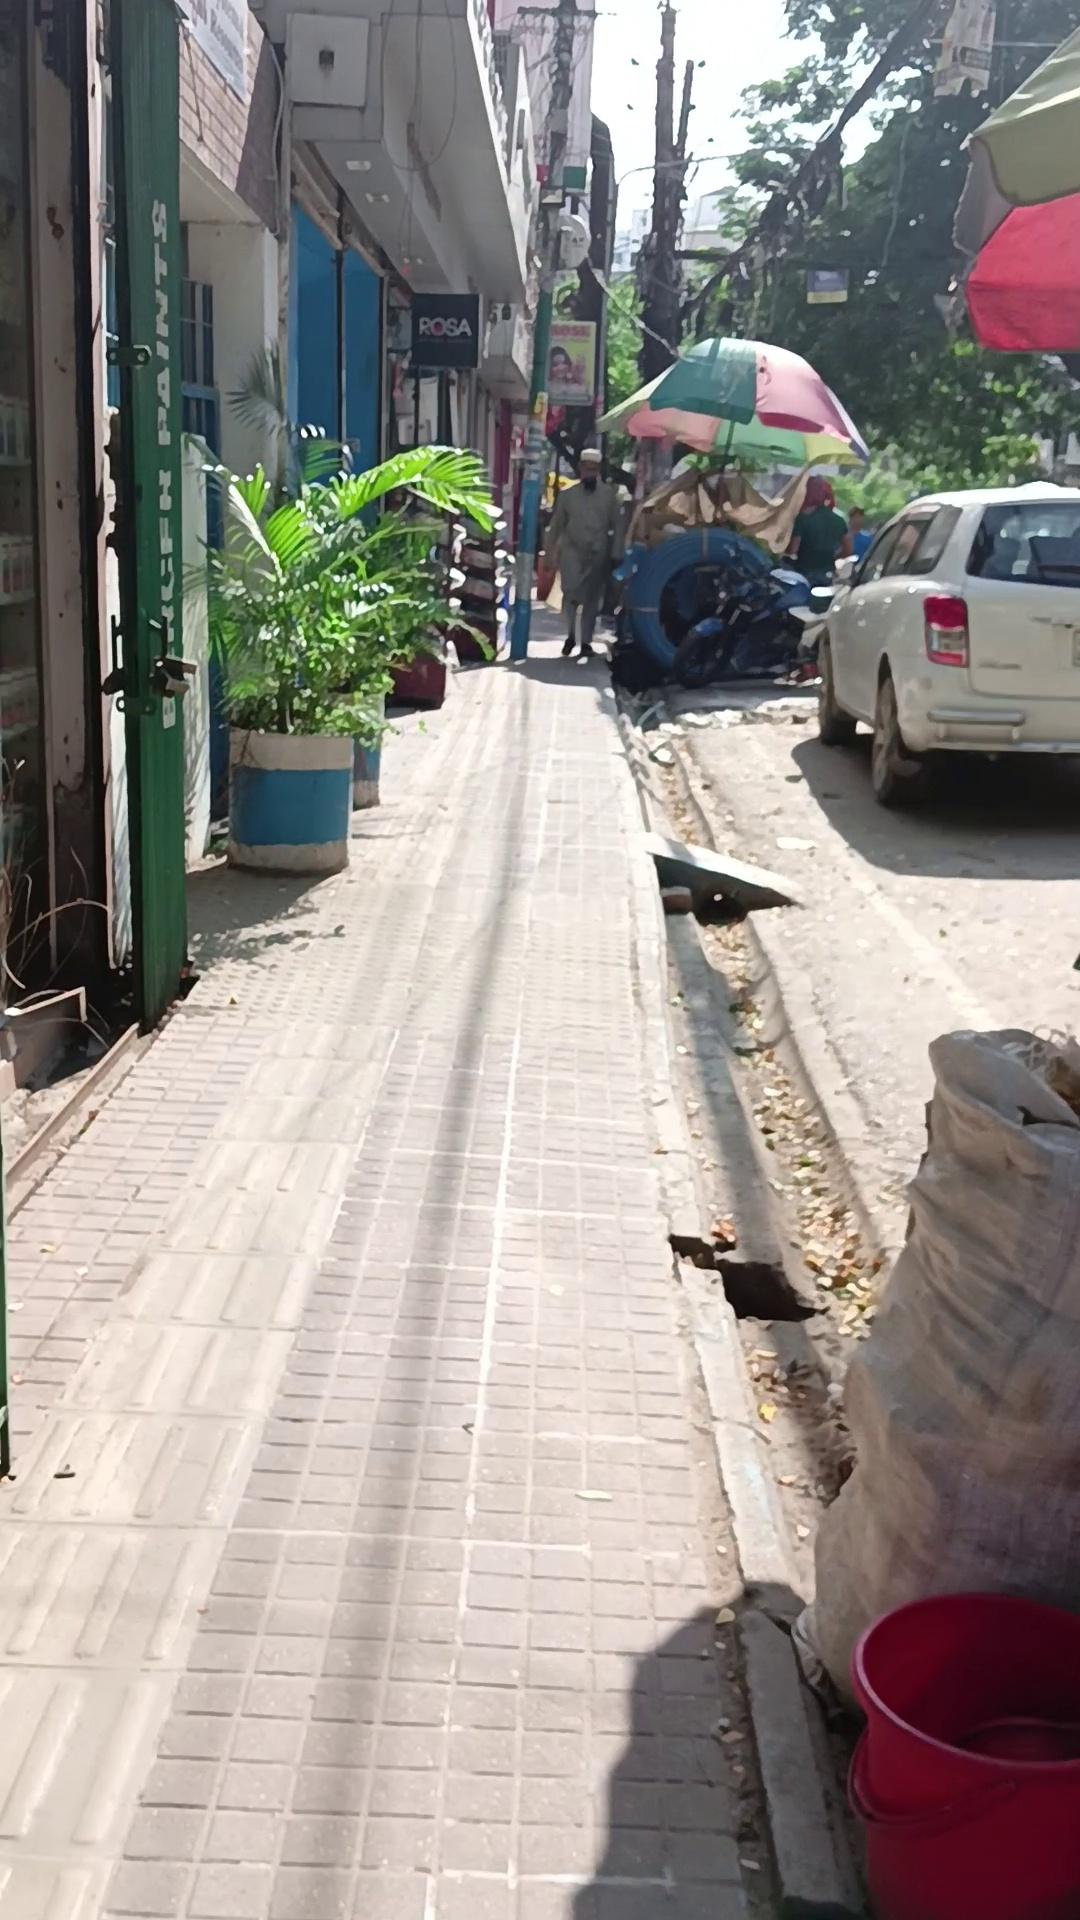Bollard: (807, 479, 1079, 806)
Broken-road: (601, 676, 867, 1920), (640, 829, 799, 925)
Cat: (843, 1588, 1078, 1916)
Curb: (541, 447, 622, 657)
Dog: (508, 284, 554, 660)
Fallen-tree: (221, 420, 494, 875)
Garbage: (1, 607, 785, 1917)
